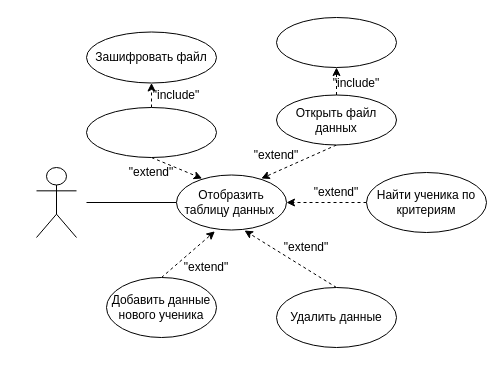
The diagram is 504 pixels wide and 365 high, and some of its shapes have lost their labels. The shapes that lost their labels are listed below. From the top down, each one's centre as x and y in pixels, then its label:
the point at 336,42: Расшифровать файл
the point at 151,132: Сохранить файл
the point at 56,202: Пользователь
